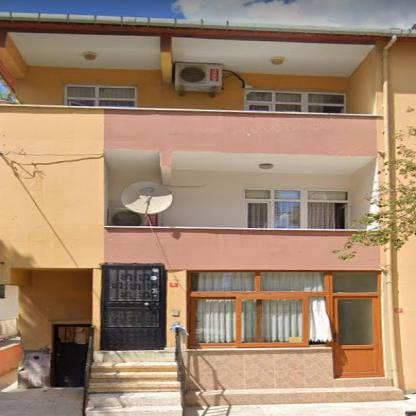door: (103, 266, 162, 349), (334, 297, 379, 375), (54, 326, 90, 386)
window: (190, 272, 378, 344), (246, 190, 347, 228), (246, 91, 345, 114), (66, 86, 136, 108)
